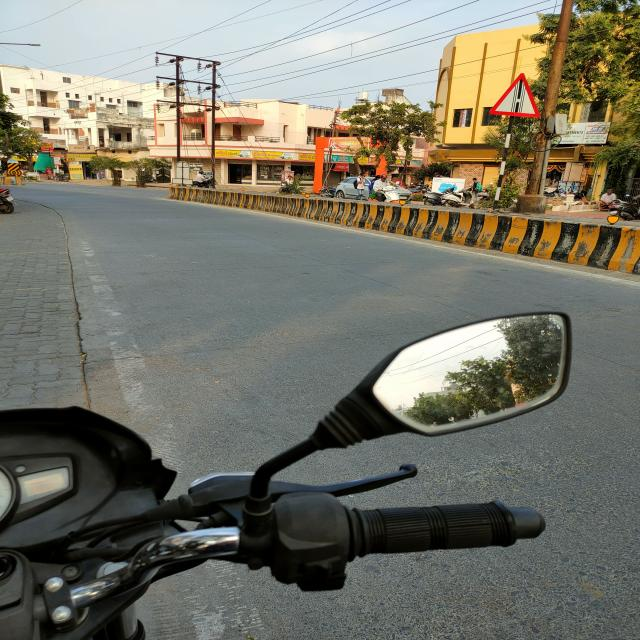ferry: (488, 72, 541, 117)
